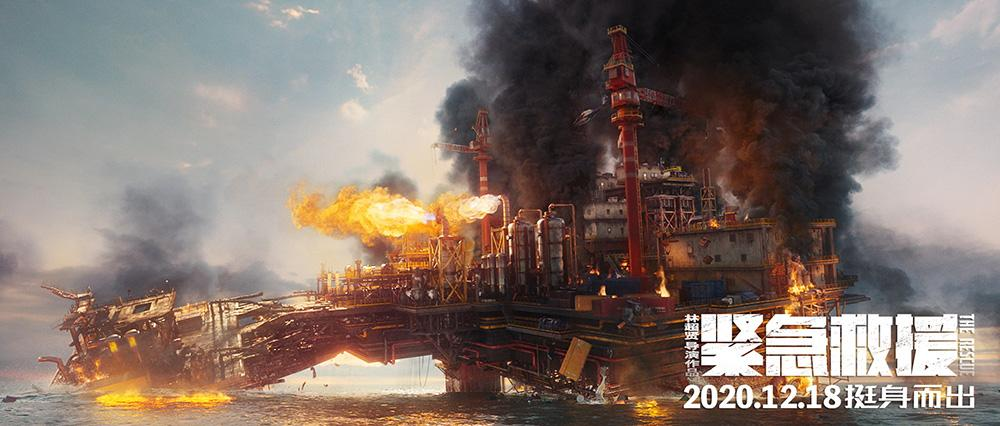fire: (14, 155, 564, 419)
